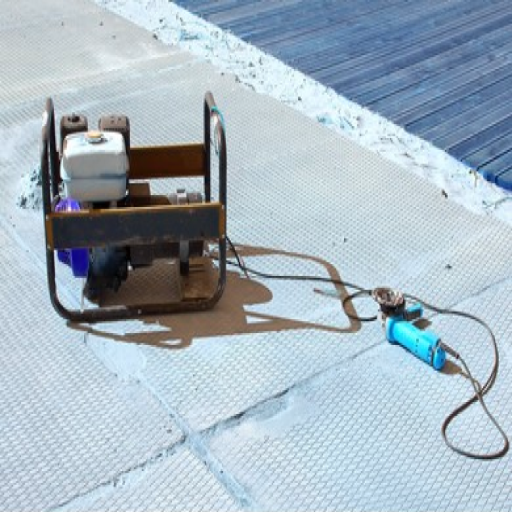portable_generator: (41, 91, 228, 325)
